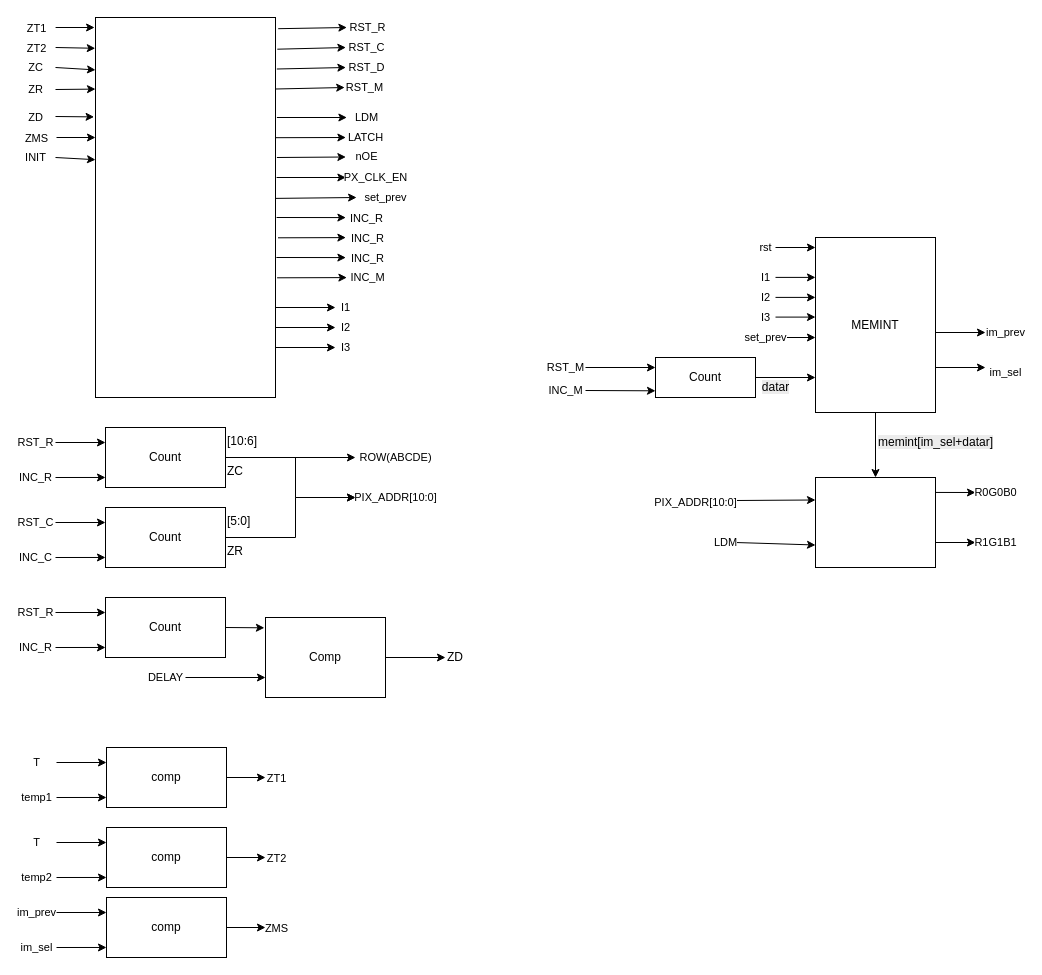
This 1042x975 diagram has some shape labels left out. Here are the shapes that lost their labels. From the top down, the box of each, then its label:
(94, 16, 276, 398): Control
(814, 476, 936, 568): MEMEXT
